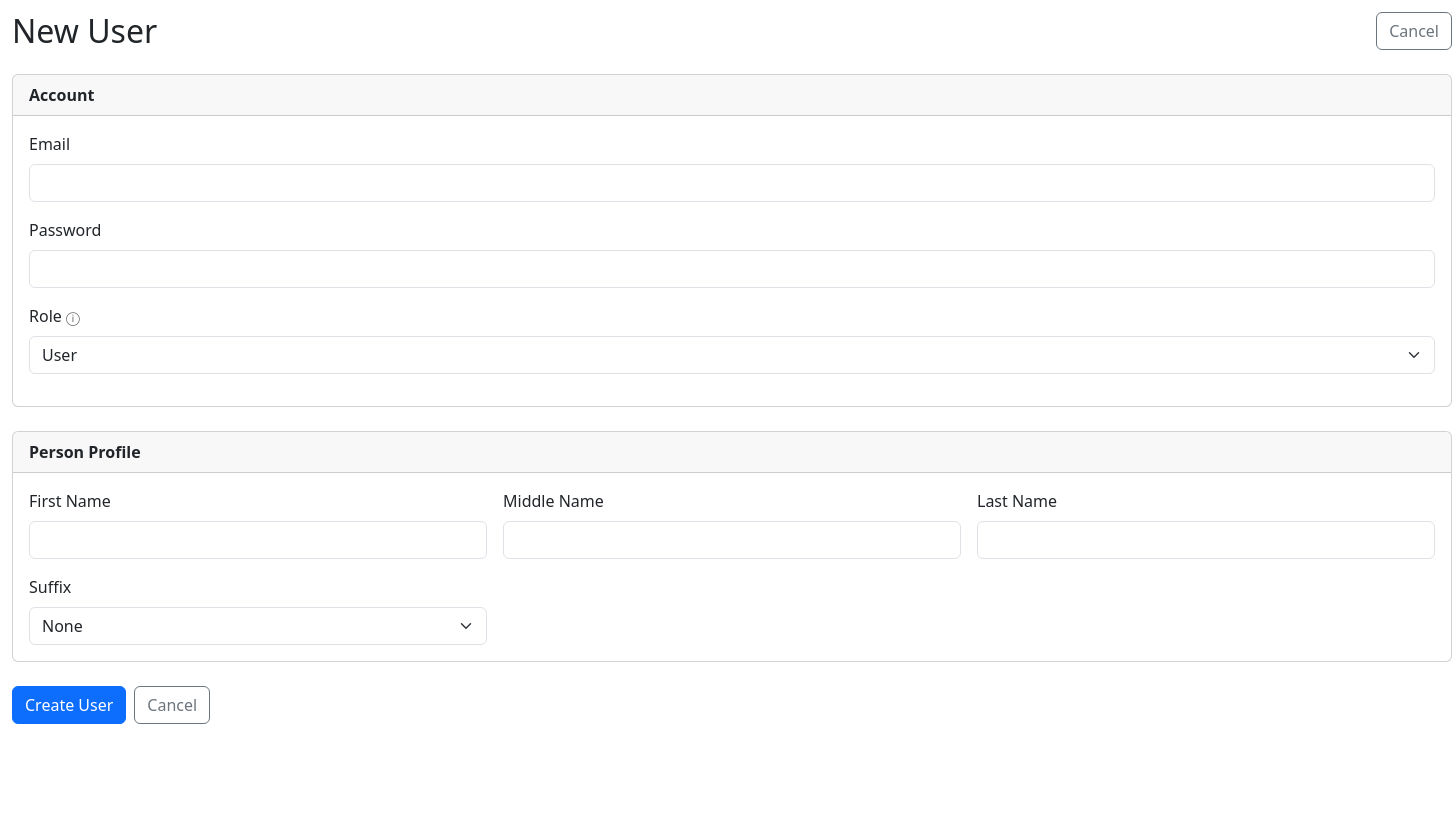
Scenario: UserFormPage › Create mode › shows validation error when password is empty on submit
In the field labelled "Email": (732, 183) [29, 164, 1435, 202], type "alice@example.com"
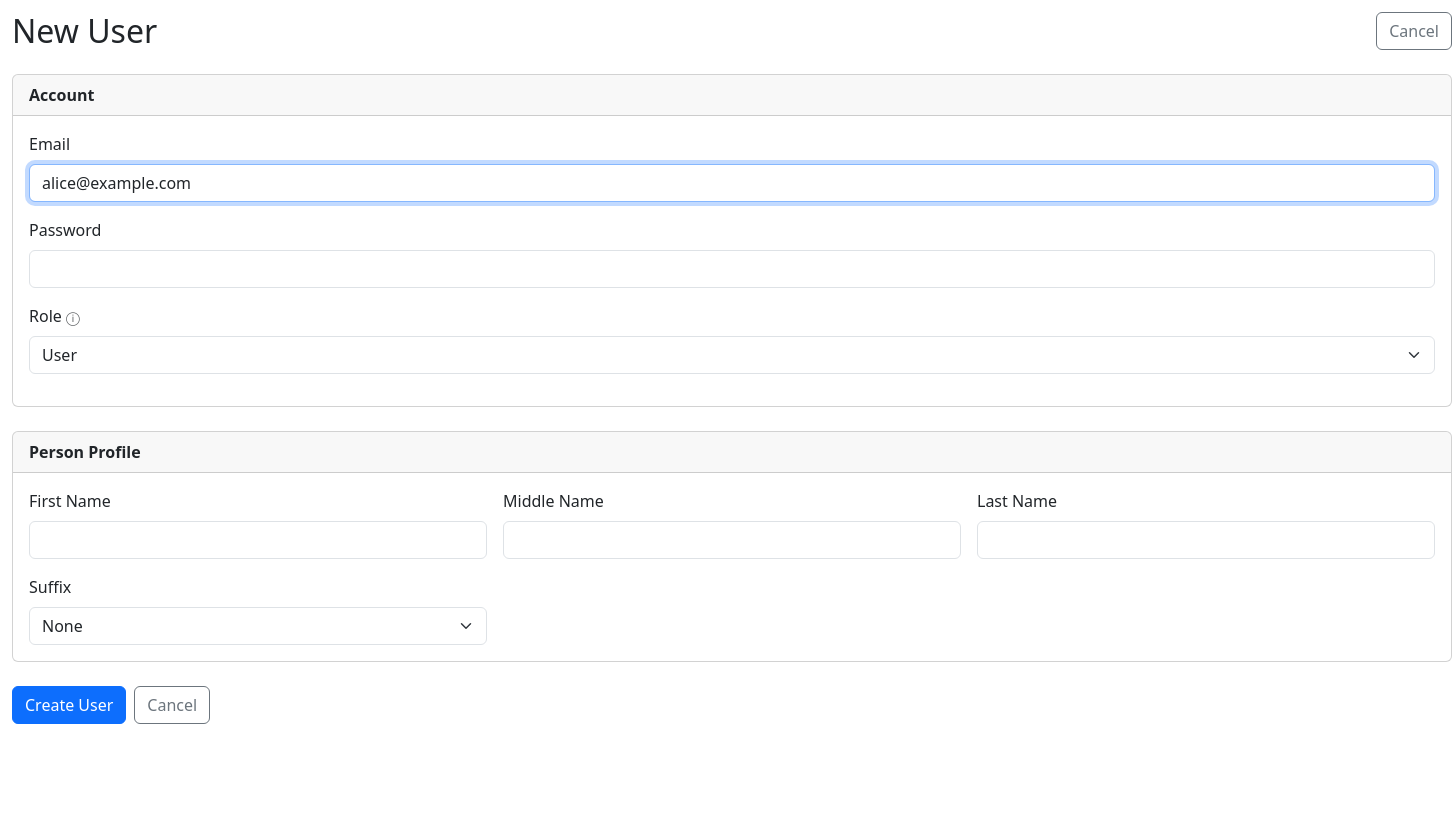
Click the button "Create User": click(69, 705) [12, 686, 126, 724]
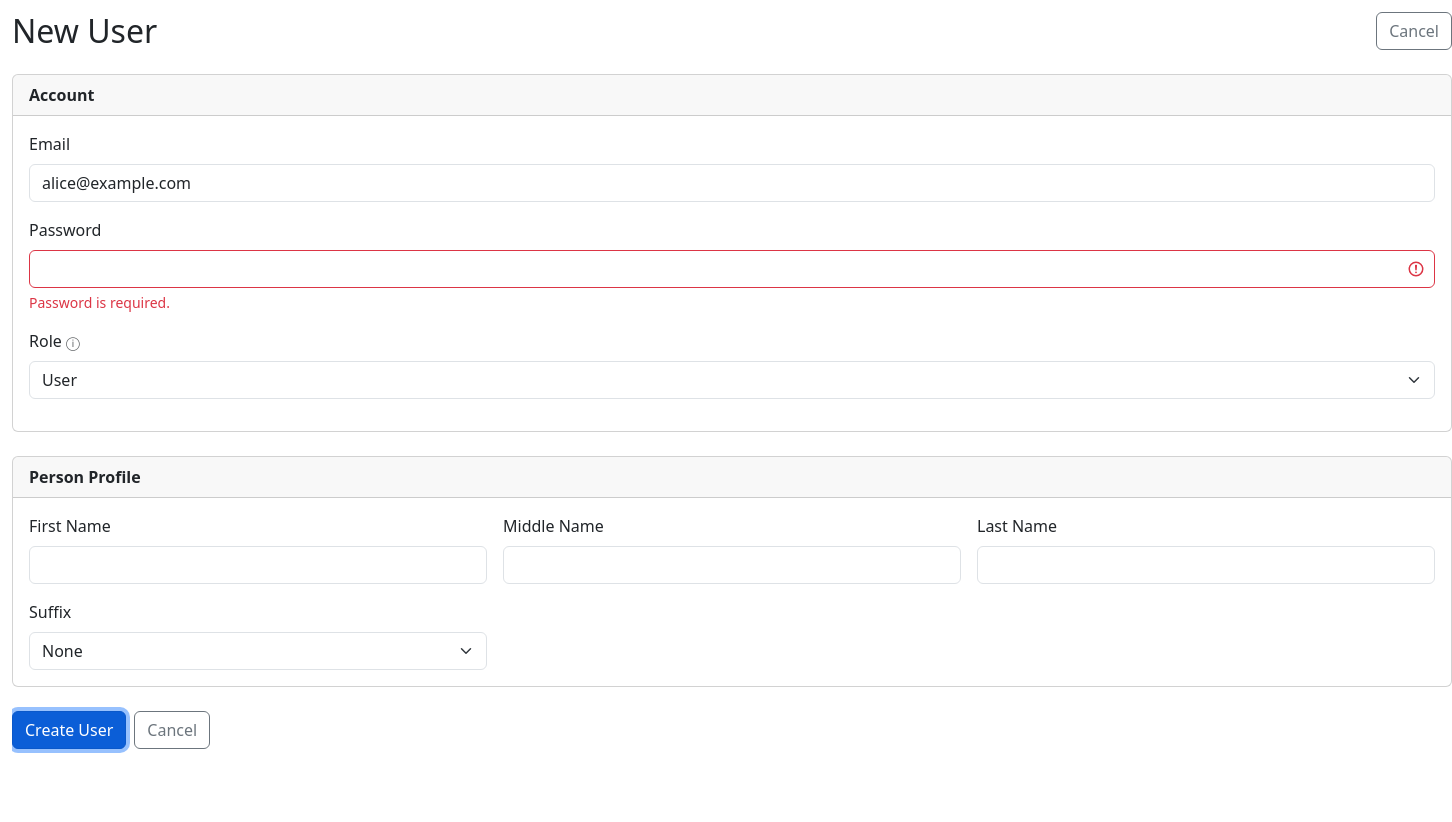
Expected: the text "Password is required." is shown, [29, 293, 170, 312]
